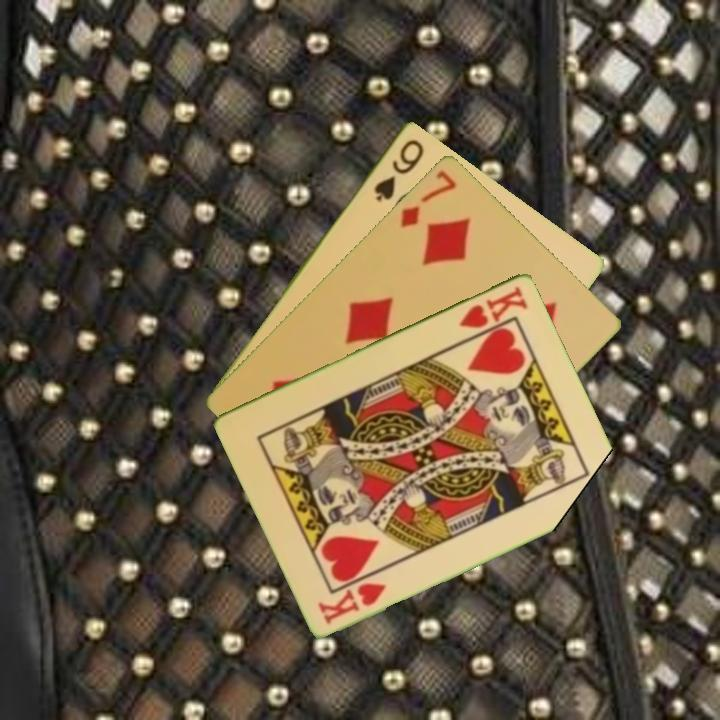7d: (397, 166, 459, 230)
9s: (370, 135, 427, 204)
Kh: (456, 281, 531, 331), (314, 578, 390, 627)
